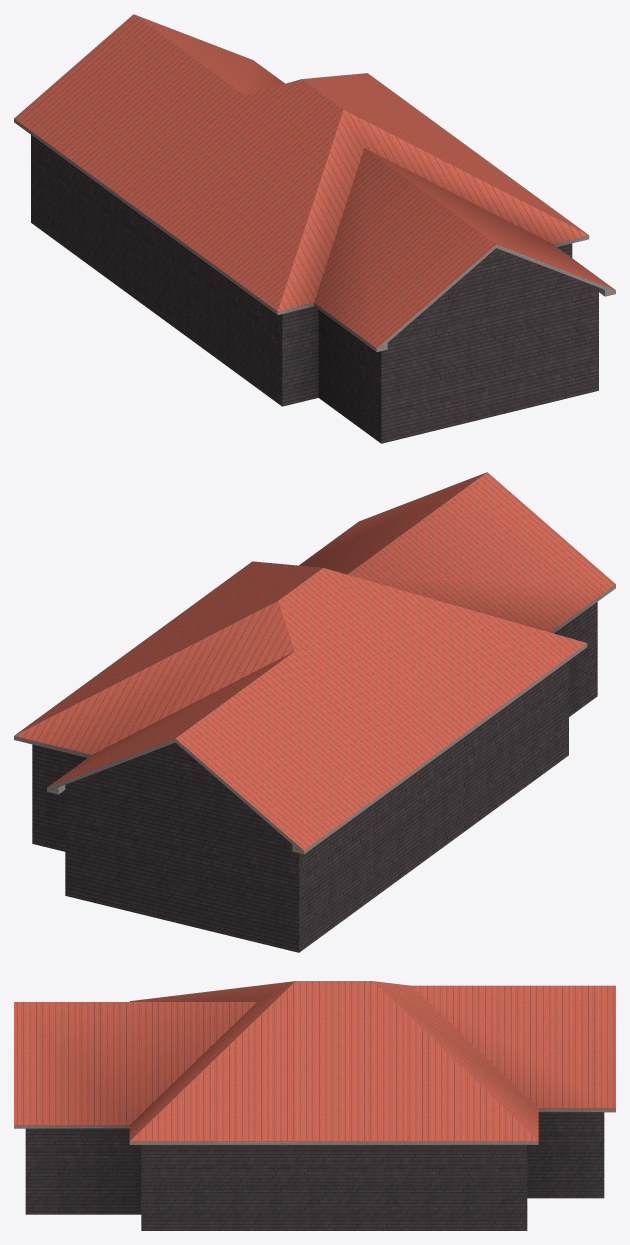
File: house_022.glb
3 renders of one model, top to bottom at view 1: azimuth 30°, elevation 25°; view 2: azimuth 150°, elevation 25°; view 3: azimuth 270°, elevation 25°, orthographic. The views are drawn at different scales.
Visible parts, largest first — view 1: Export; view 2: Export; view 3: Export.
Part boxes in pixels (left/top/right/bottom): Export: left=14, top=14, right=615, bottom=443; Export: left=14, top=472, right=615, bottom=952; Export: left=14, top=981, right=615, bottom=1230.
Bounding box in the file's own units: 8.6 × 5.28 × 15.6.
Materials: 3 (3 with a texture image).
